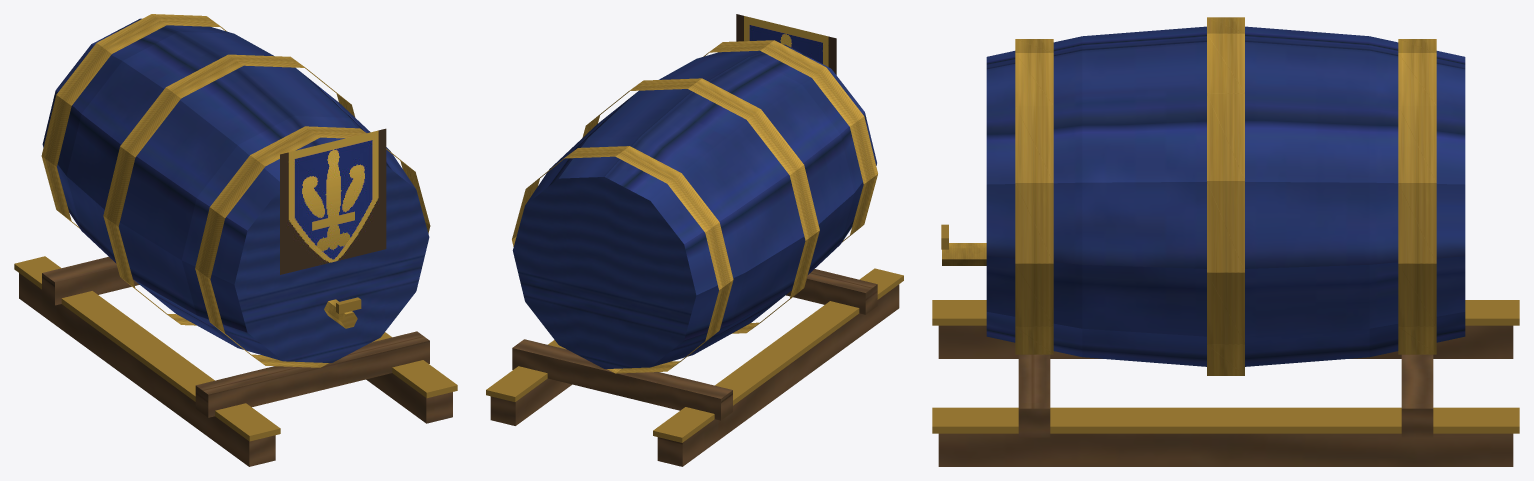
File: prop_wijnvat_blue.glb
3 renders of one model, left to right at view 1: azimuth 30°, elevation 25°; view 2: azimuth 150°, elevation 25°; view 3: azimuth 270°, elevation 25°, orthographic. The views are drawn at different scales.
Parts seen in each view (by area): view 1: prop_wijnvat_blue; view 2: prop_wijnvat_blue; view 3: prop_wijnvat_blue.
Part boxes in pixels (bbox=[...]): prop_wijnvat_blue: bbox=[14, 14, 457, 466]; prop_wijnvat_blue: bbox=[486, 14, 903, 466]; prop_wijnvat_blue: bbox=[932, 17, 1519, 466].
Bounding box in the file's own units: 0.564 × 0.642 × 0.92.
1 material, 1 textured.
